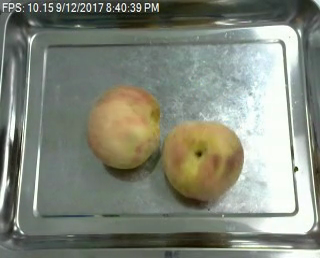Peach: (162, 120, 244, 202), (86, 84, 163, 170)
